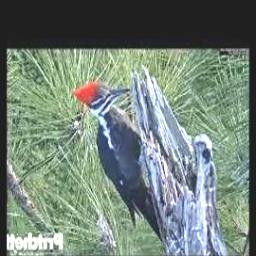Woodpecker: (73, 81, 165, 245)
